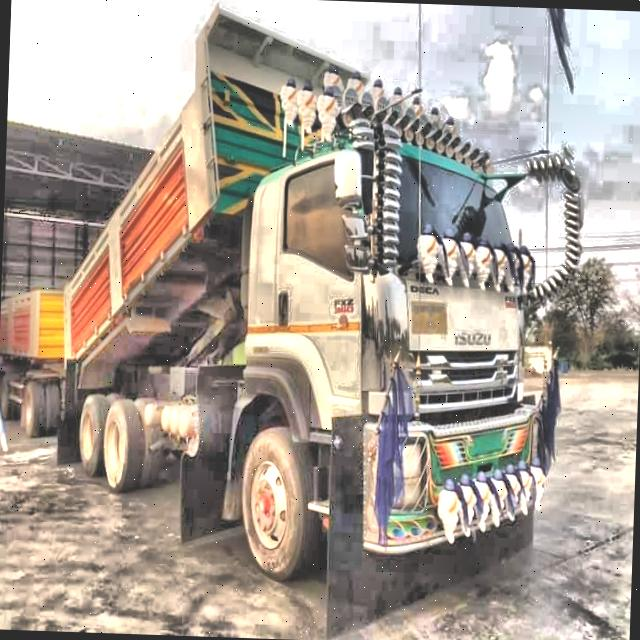trailer: (0, 1, 557, 595)
